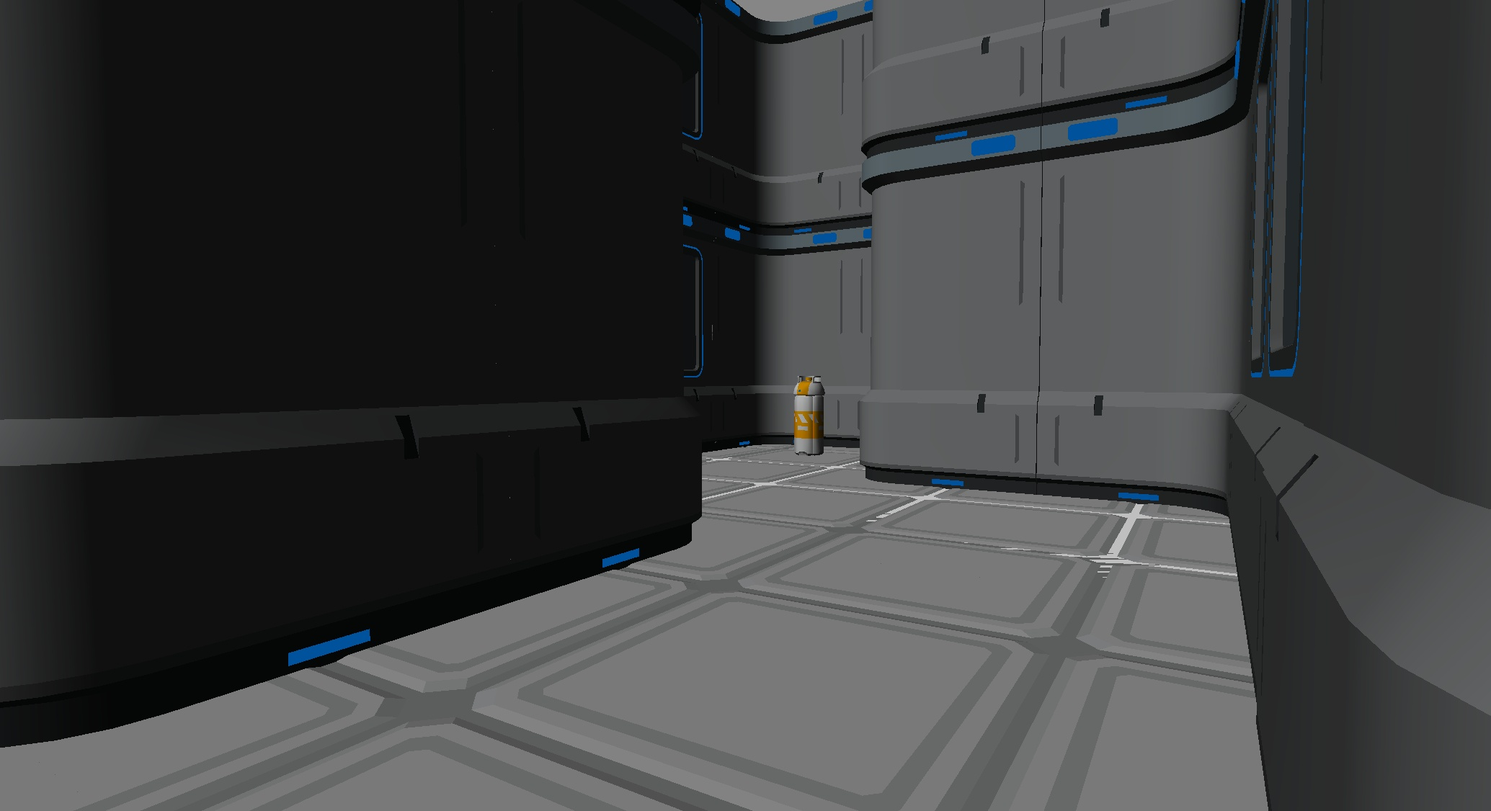yellow_barrel: (793, 377, 823, 454)
